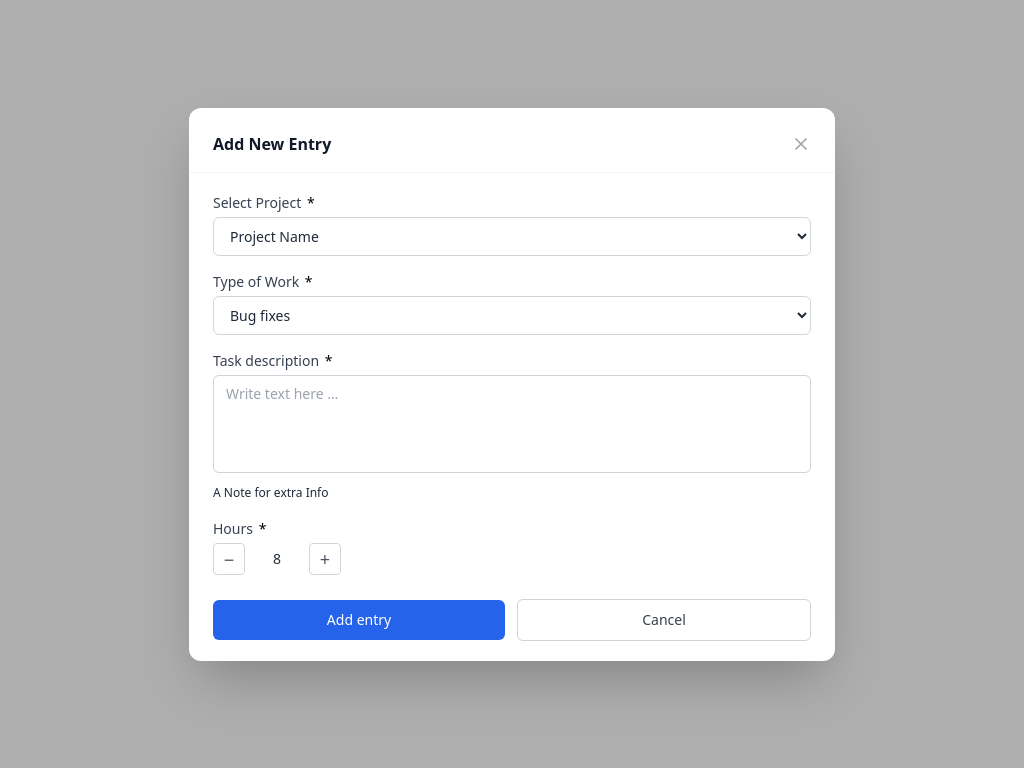
AddEntryModal › shows validation errors when submitted with empty fields
The width and height of the screenshot is (1024, 768).
What coordinates should you click on to do the following:
click the button "Add entry"
I would click on:
 (359, 620)
Its box is [213,600,505,640].
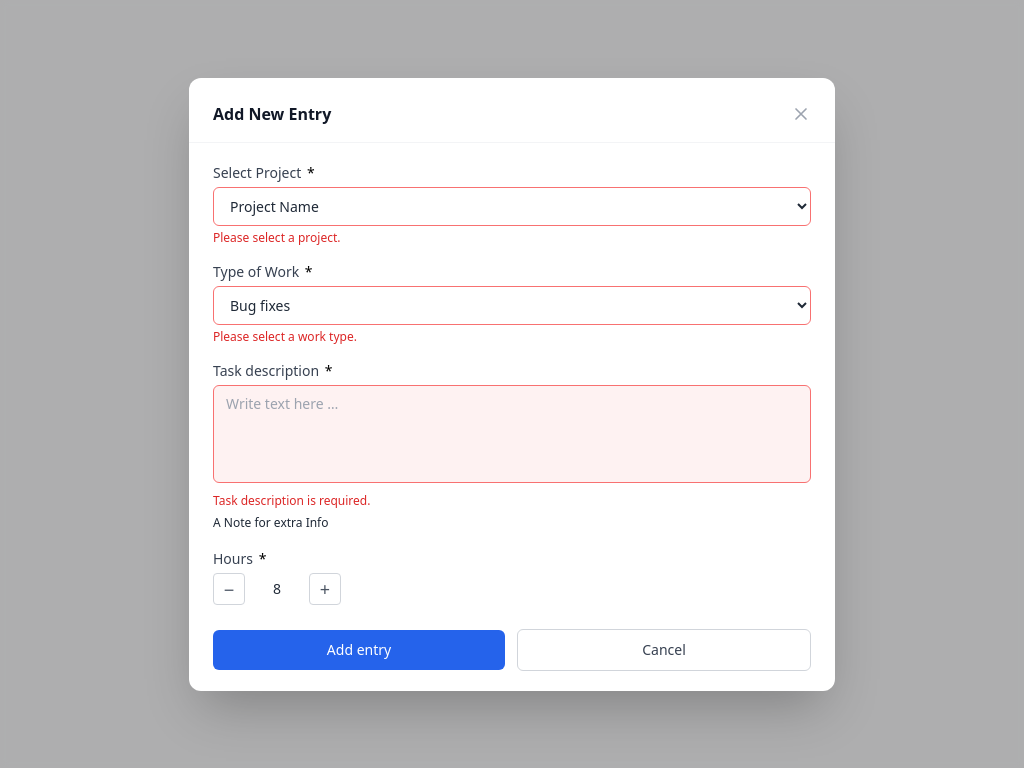
Now the text "Please select a project." is shown, box [213,228,340,246]
Now the text "Please select a work type." is shown, box [213,328,357,344]
Now the text "Task description is required." is shown, box [213,492,370,508]
